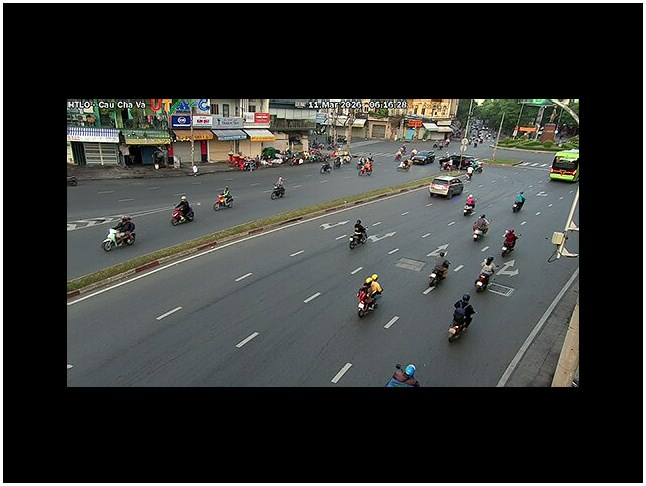bus: (550, 150, 579, 182)
car: (428, 174, 464, 198)
motorbike: (102, 222, 136, 250), (170, 201, 194, 225), (212, 189, 235, 211), (472, 214, 490, 241), (474, 271, 492, 293), (271, 177, 286, 199), (512, 191, 525, 213)
